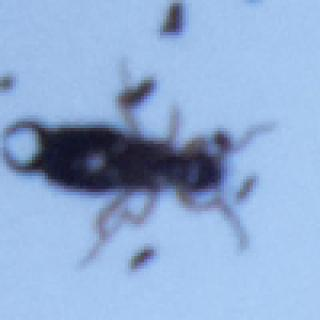earwig: (0, 61, 276, 270)
